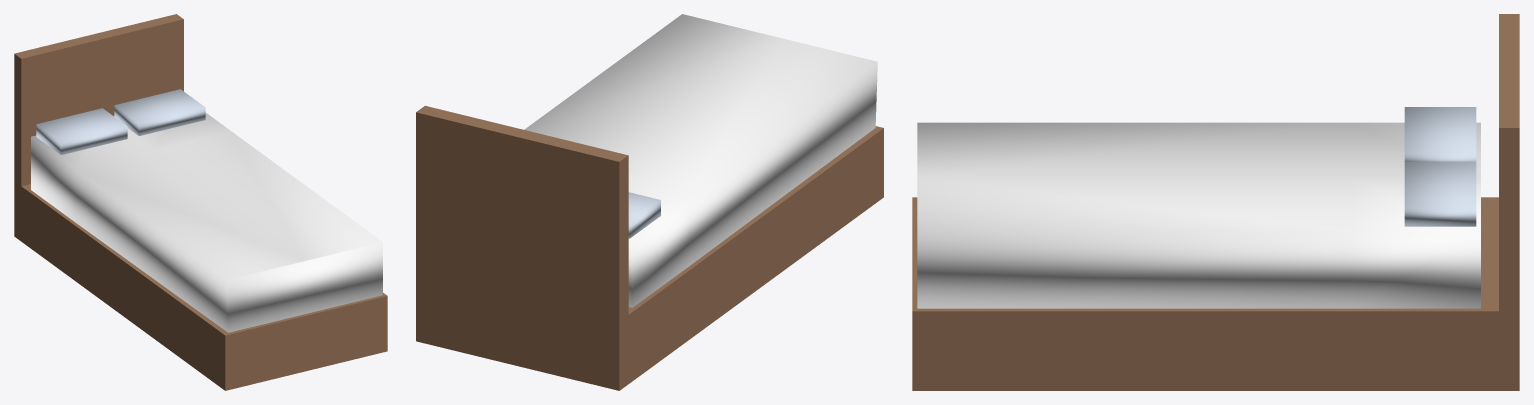
File: cell-bed.glb
3 renders of one model, left to right at view 1: azimuth 30°, elevation 25°; view 2: azimuth 150°, elevation 25°; view 3: azimuth 270°, elevation 25°, orthographic. The views are drawn at different scales.
Visible parts, largest first — view 1: Bed; view 2: Bed; view 3: Bed.
Part boxes in pixels (bbox=[...]): Bed: bbox=[14, 14, 387, 390]; Bed: bbox=[416, 14, 883, 390]; Bed: bbox=[912, 14, 1519, 390].
Bounding box in the file's own units: 0.8846 × 0.9513 × 1.99.
Materials: 1 (1 with a texture image).
